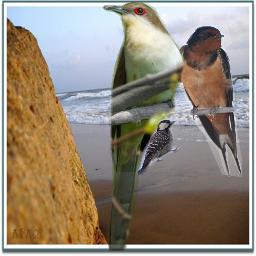Cuckoo: (102, 1, 187, 251)
Swallow: (175, 25, 242, 177)
Woodpecker: (134, 116, 182, 178)
